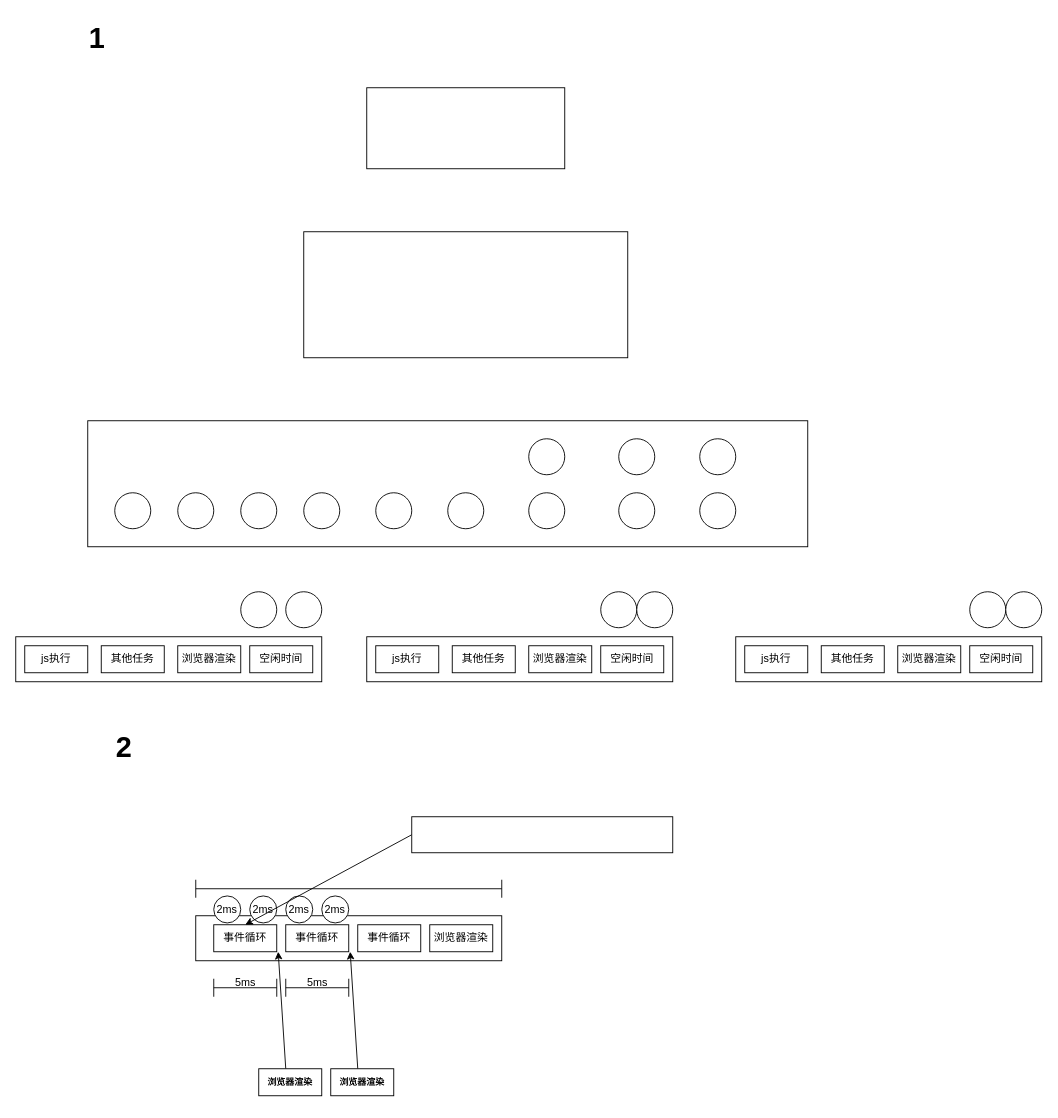
Some shapes in this 1058 by 1118 pixel diagram are drawn without their labels. Here are the shapes that lost their labels. From the top down, the centre of each, then its label:
At point 465,128: "fiber中的空闲时间".
At point 465,294: "这是react中的每一个待执行的任务， 每处理一次fiber节点就可以理解是一个任务 利用空闲时间执行任务".
At point 542,834: "事件循环里先执行同步任务，在执行微任务，再执行宏任务，宏任务的执行时间只有5ms".
At point 348,888: "16.6ms".
